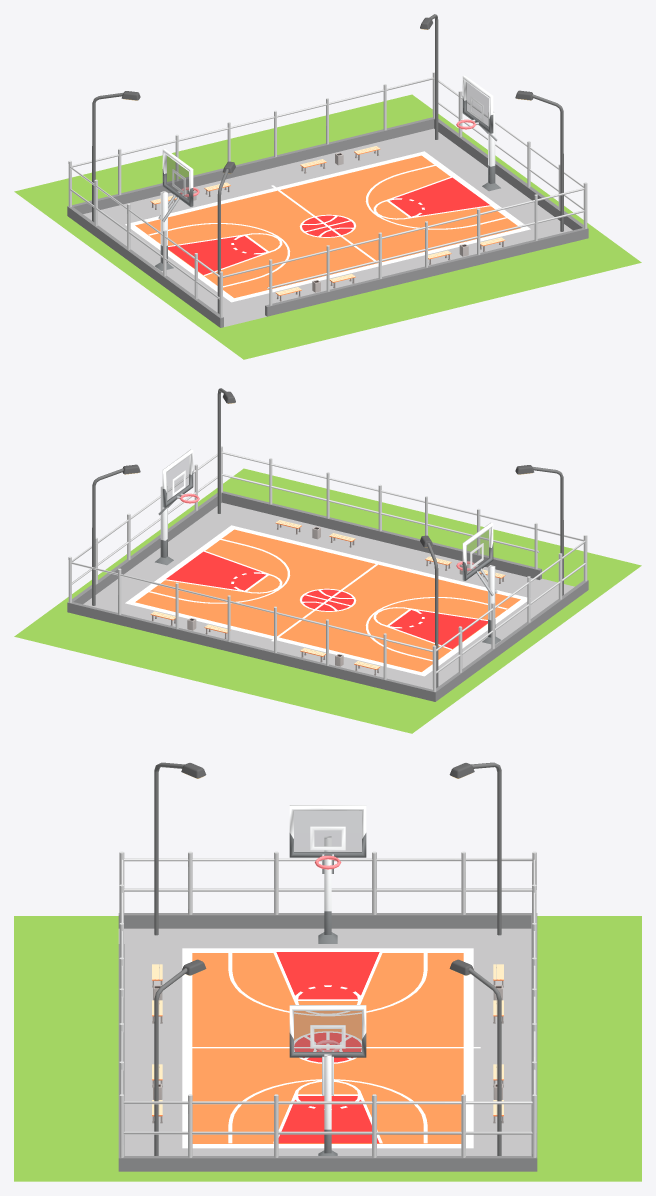
File: Entertainment_Basketball_01.glb
The picture shows the model from 3 angles, top to bottom: view 1: azimuth 30°, elevation 25°; view 2: azimuth 150°, elevation 25°; view 3: azimuth 270°, elevation 25°; orthographic projection. The views are drawn at different scales.
Parts seen in each view (by area): view 1: Entertainment_Basketball_01; view 2: Entertainment_Basketball_01; view 3: Entertainment_Basketball_01.
Part boxes in pixels (box(x1,y1,x2,y2)): Entertainment_Basketball_01: box(14, 14, 641, 359); Entertainment_Basketball_01: box(14, 388, 641, 733); Entertainment_Basketball_01: box(14, 762, 641, 1181).
Size of the model in its own units: 30 by 9.75 by 30.
3 materials, 3 textured.
